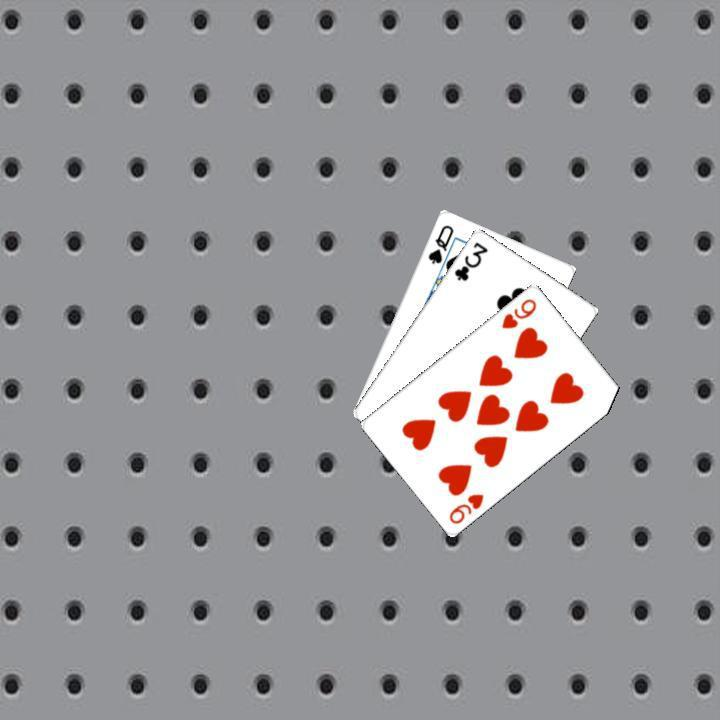3: (450, 237, 490, 283)
9: (497, 294, 539, 331), (445, 489, 486, 526)
Q: (423, 220, 456, 266)
